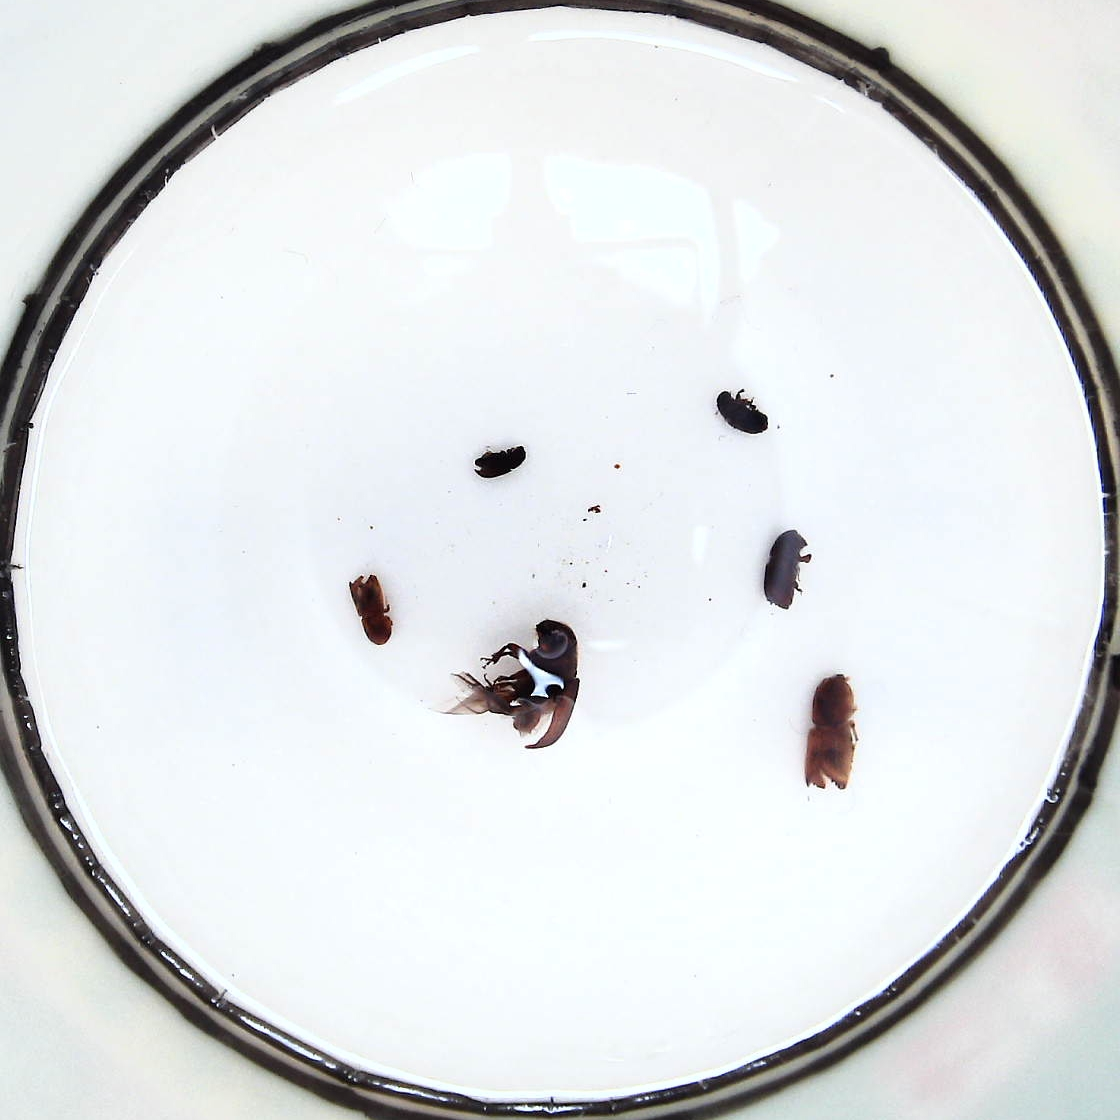Boerner: (805, 674, 857, 789)
Leconte: (479, 619, 581, 749)
acuminatus: (475, 445, 526, 478)
armandi: (347, 575, 393, 645)
coleoptera: (716, 390, 767, 434)
linnaeus: (764, 530, 811, 609)
